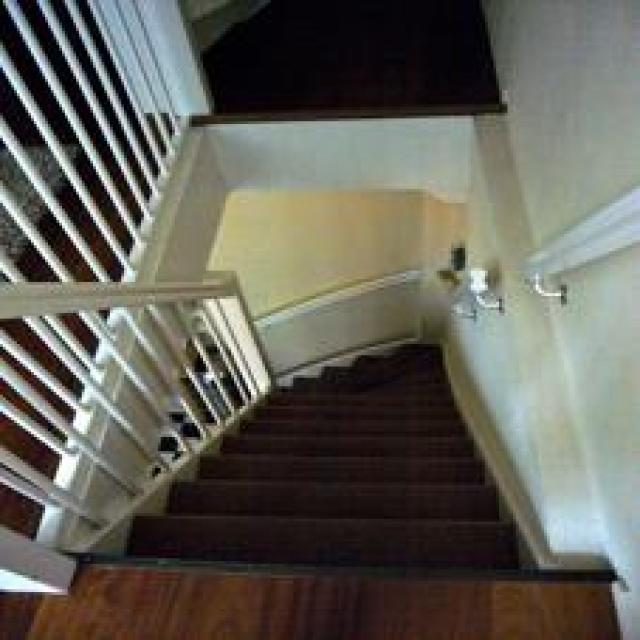stair: (112, 311, 526, 619)
